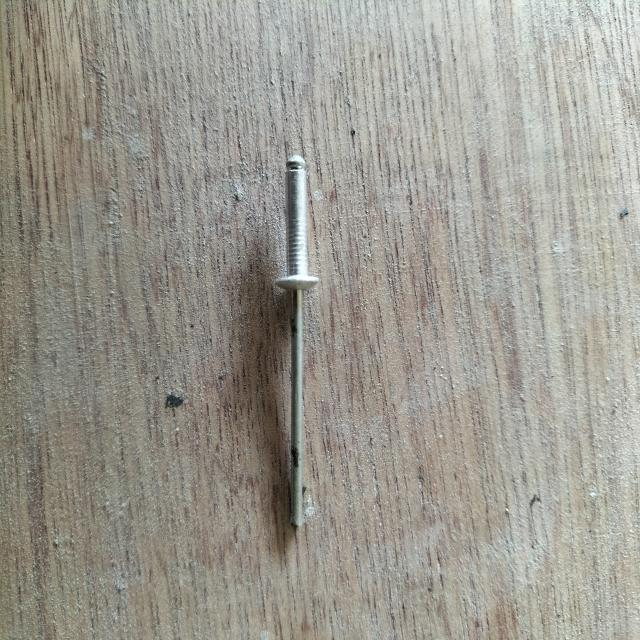rivet: (274, 154, 319, 528)
